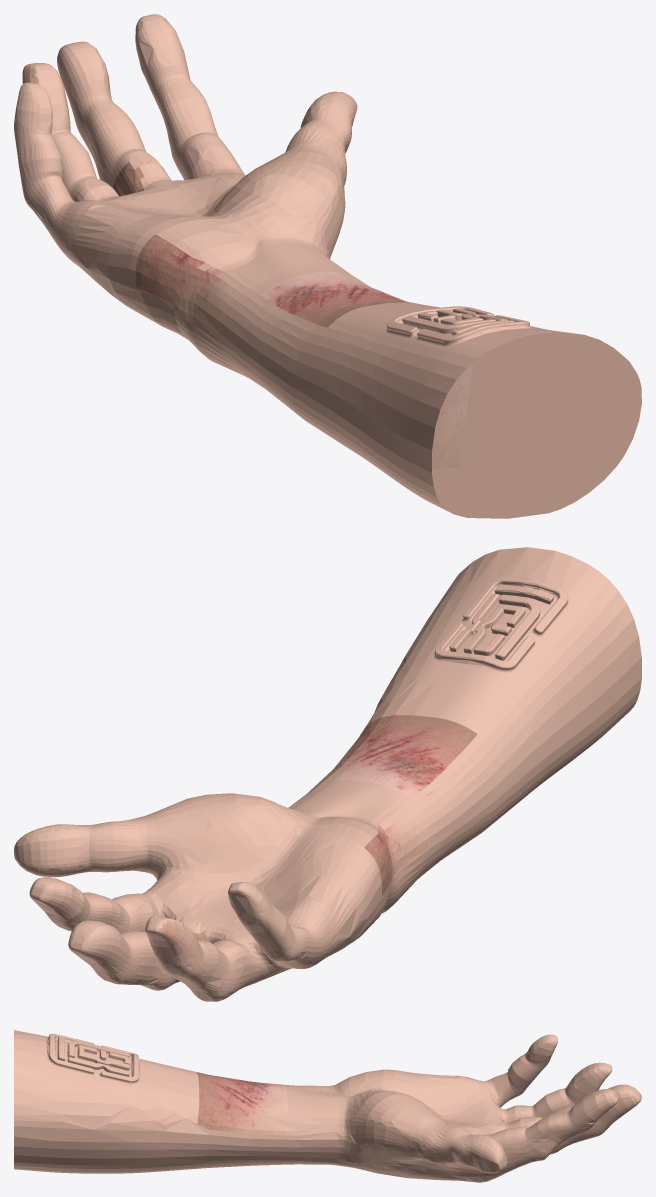
Rendered from hand_abrasion.dae.
3 renders of one model, top to bottom at view 1: azimuth 30°, elevation 25°; view 2: azimuth 150°, elevation 25°; view 3: azimuth 270°, elevation 25°, orthographic. The views are drawn at different scales.
Parts seen in each view (by area): view 1: node0; view 2: node0; view 3: node0.
Boxes of the visible parts, x1,y1,x2,y2 form: node0: [14, 14, 641, 518]; node0: [14, 547, 641, 1001]; node0: [14, 1030, 641, 1182].
Bounding box in the file's own units: 0.1743 × 0.4653 × 0.1043.
